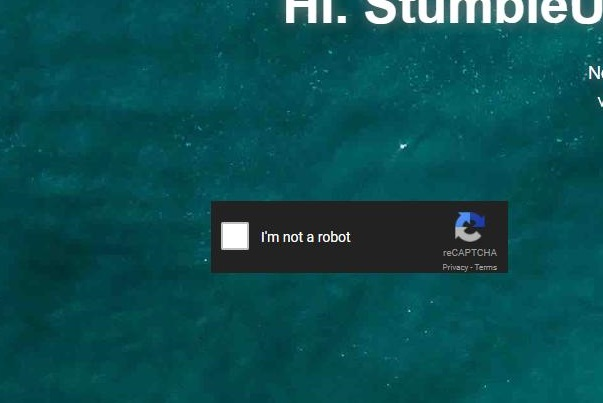captcha: (221, 222, 354, 251)
